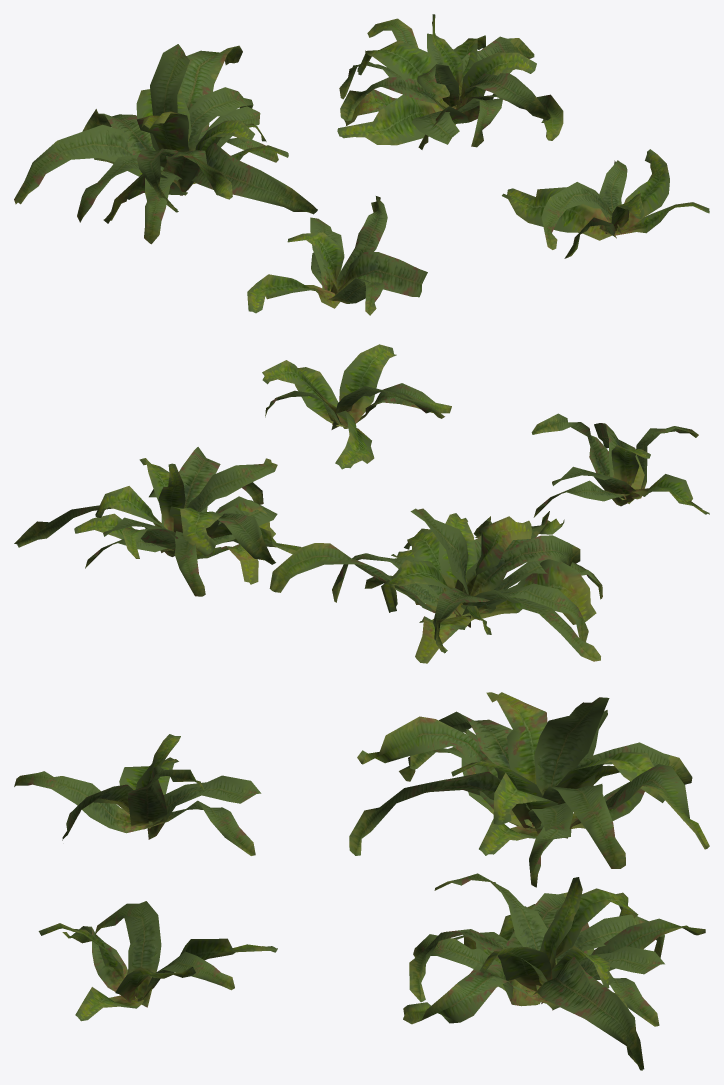
The model's file is fern_02.glb.
The picture shows the model from 3 angles, top to bottom: view 1: azimuth 30°, elevation 25°; view 2: azimuth 150°, elevation 25°; view 3: azimuth 270°, elevation 25°; orthographic projection. The views are drawn at different scales.
Visible parts, largest first — view 1: fern_02_b; view 2: fern_02_b; view 3: fern_02_b.
Boxes of the visible parts, <box> form: fern_02_b: <box>14,14,709,315</box>; fern_02_b: <box>14,344,709,663</box>; fern_02_b: <box>14,692,709,1070</box>.
Bounding box in the file's own units: 1.97 × 0.4276 × 1.72.
1 material, 1 textured.
